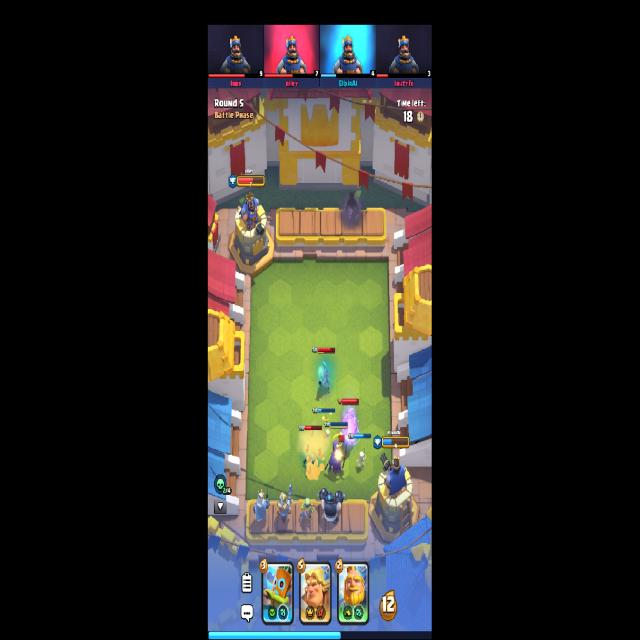card_dart_goblin: (260, 560, 294, 626)
card_golden_knight: (298, 561, 332, 625)
card_royal_giant: (338, 561, 369, 626)
mega_knight: (318, 488, 345, 525)
monk: (342, 408, 358, 442)
musketeer: (318, 362, 332, 394)
prince: (279, 484, 293, 523)
royal_ghost: (253, 488, 271, 522)
skeleton: (356, 448, 366, 468), (322, 428, 330, 445)
spear_goblin: (301, 498, 315, 521)
witch: (324, 430, 351, 476)
